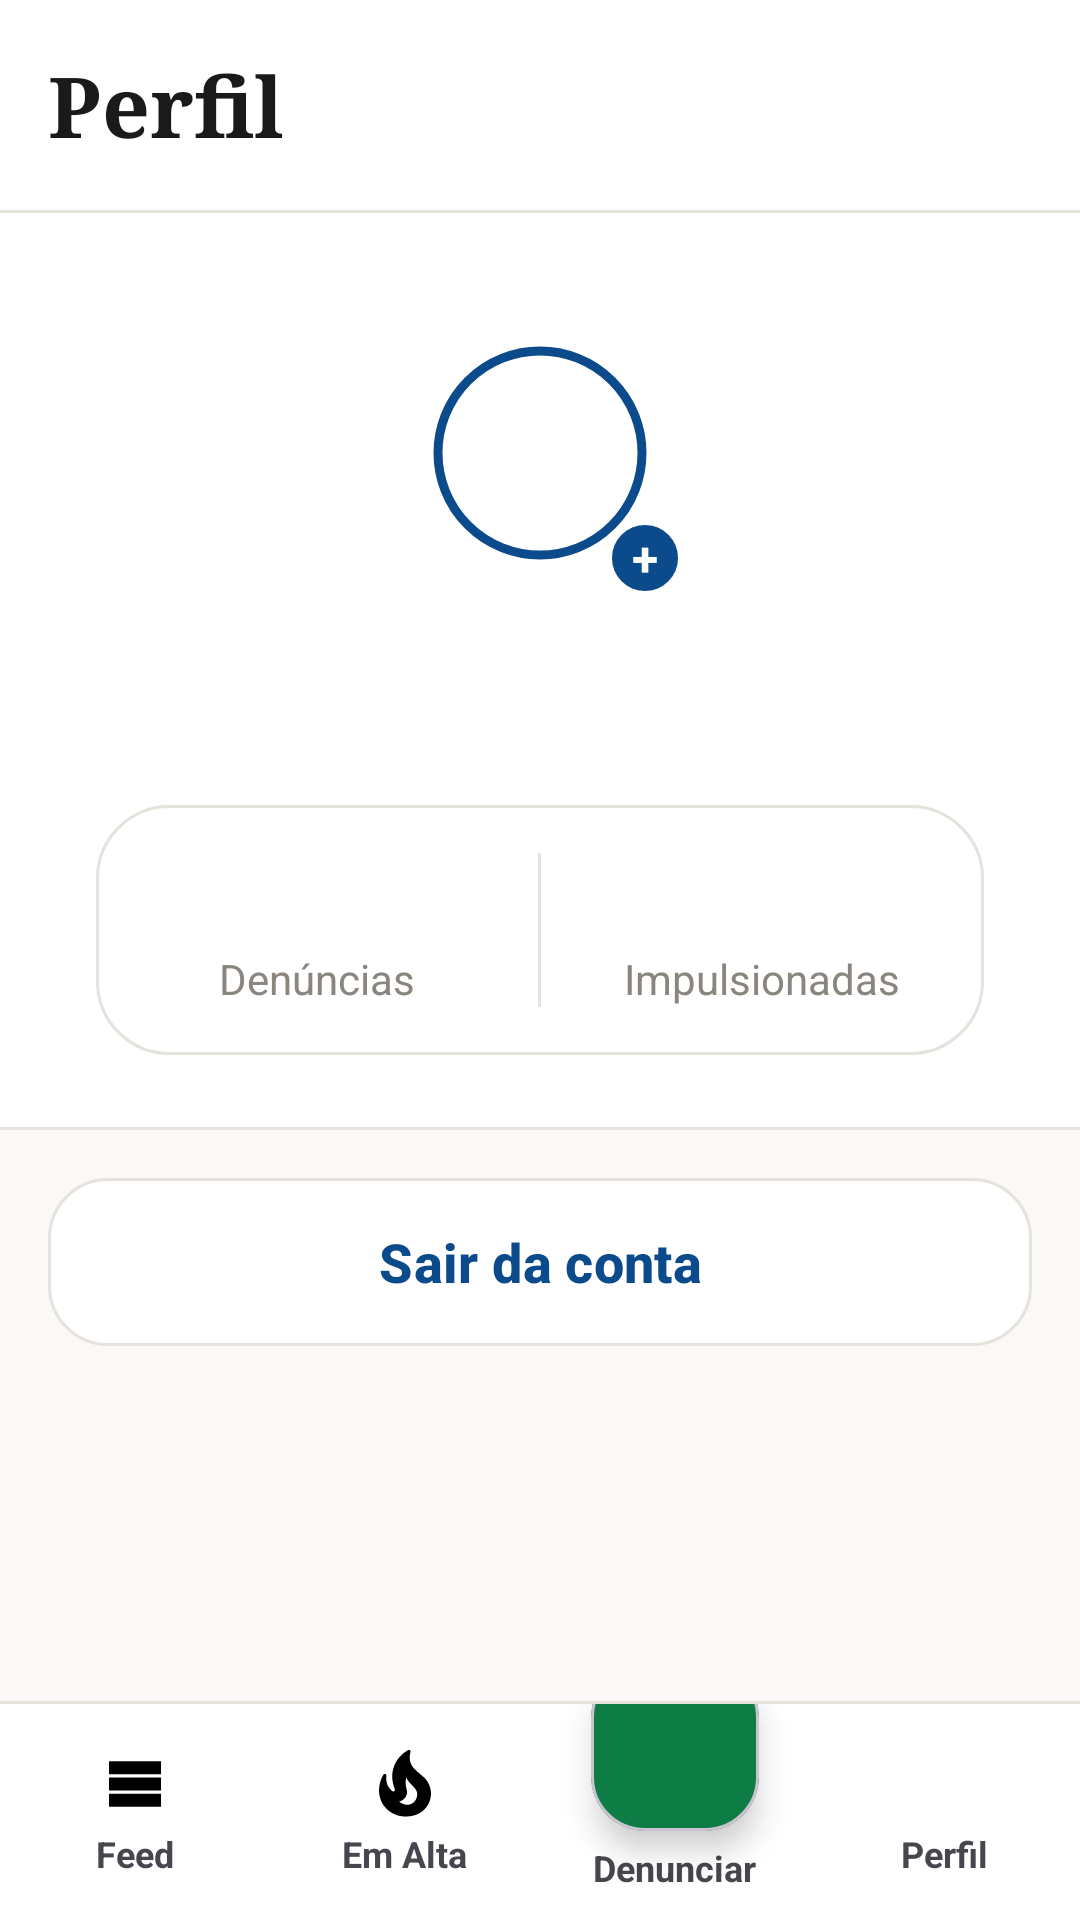

Where icons sit on this 1080 × 1920 app screen, as (x1, y1, x2, y2):
fire: (379, 1750, 431, 1817)
